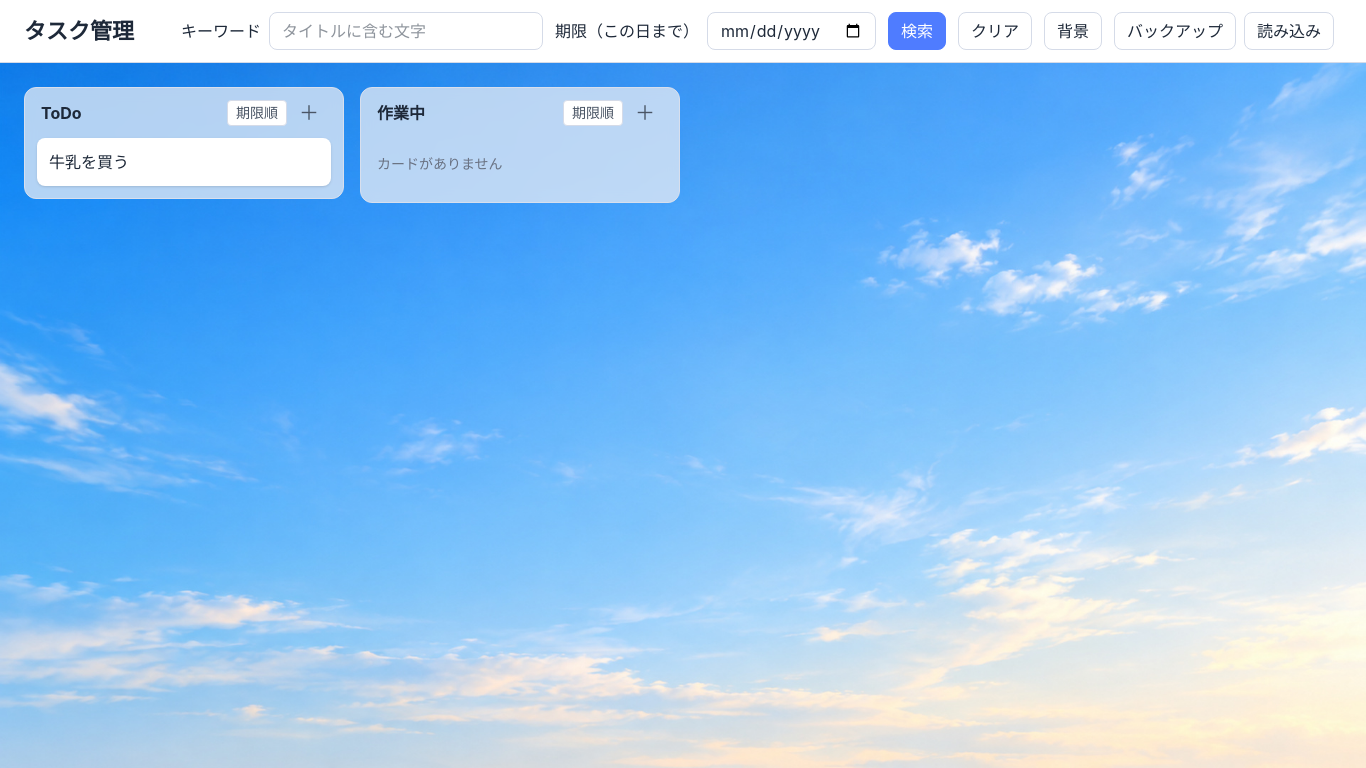
Test case: 保存に失敗したら、元の背景に戻って、エラーが出る
This screenshot has width=1366, height=768.
expect the element "ToDo" is shown: met, box [24,87,344,199]
Click the button "背景".
click(1073, 31)  # box [1044,12,1102,50]
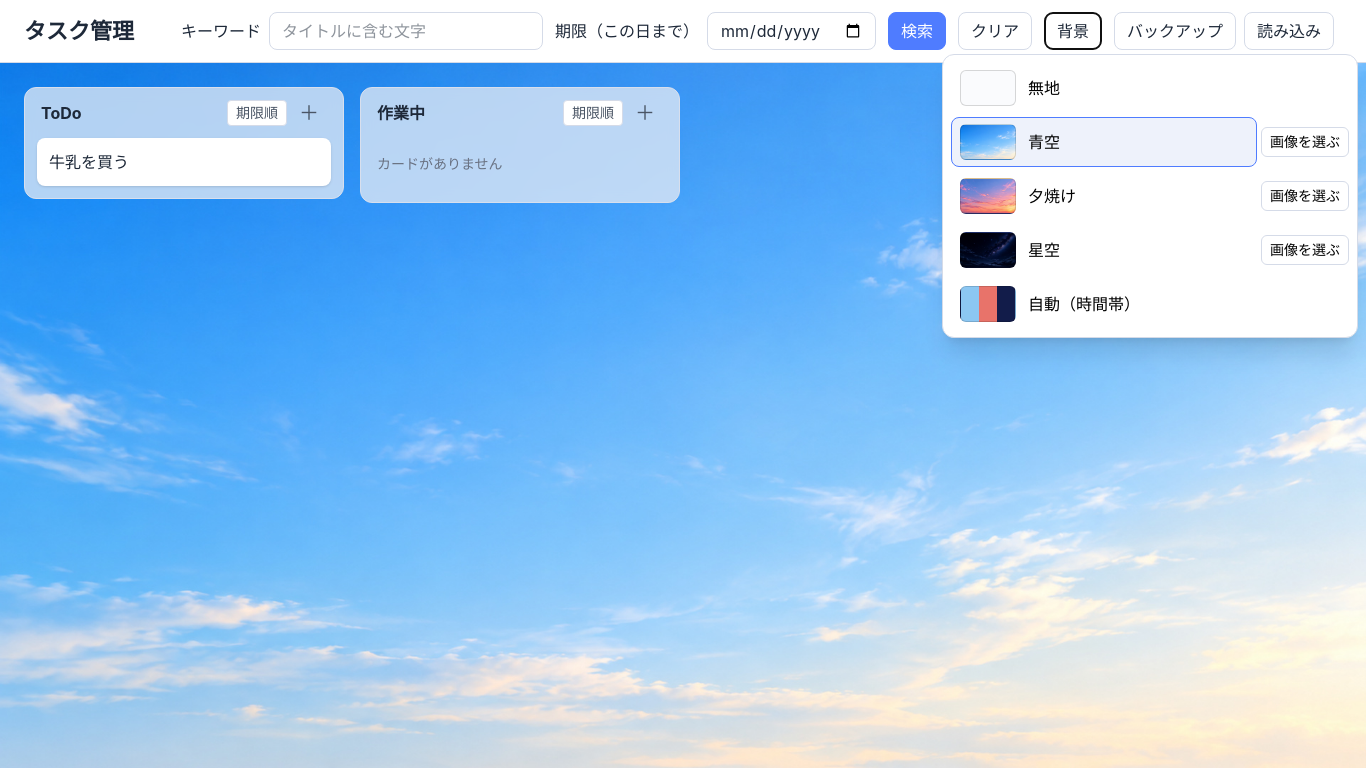
Click the radio button labelled "夕焼け".
click(988, 196)  # box [951,171,1257,221]
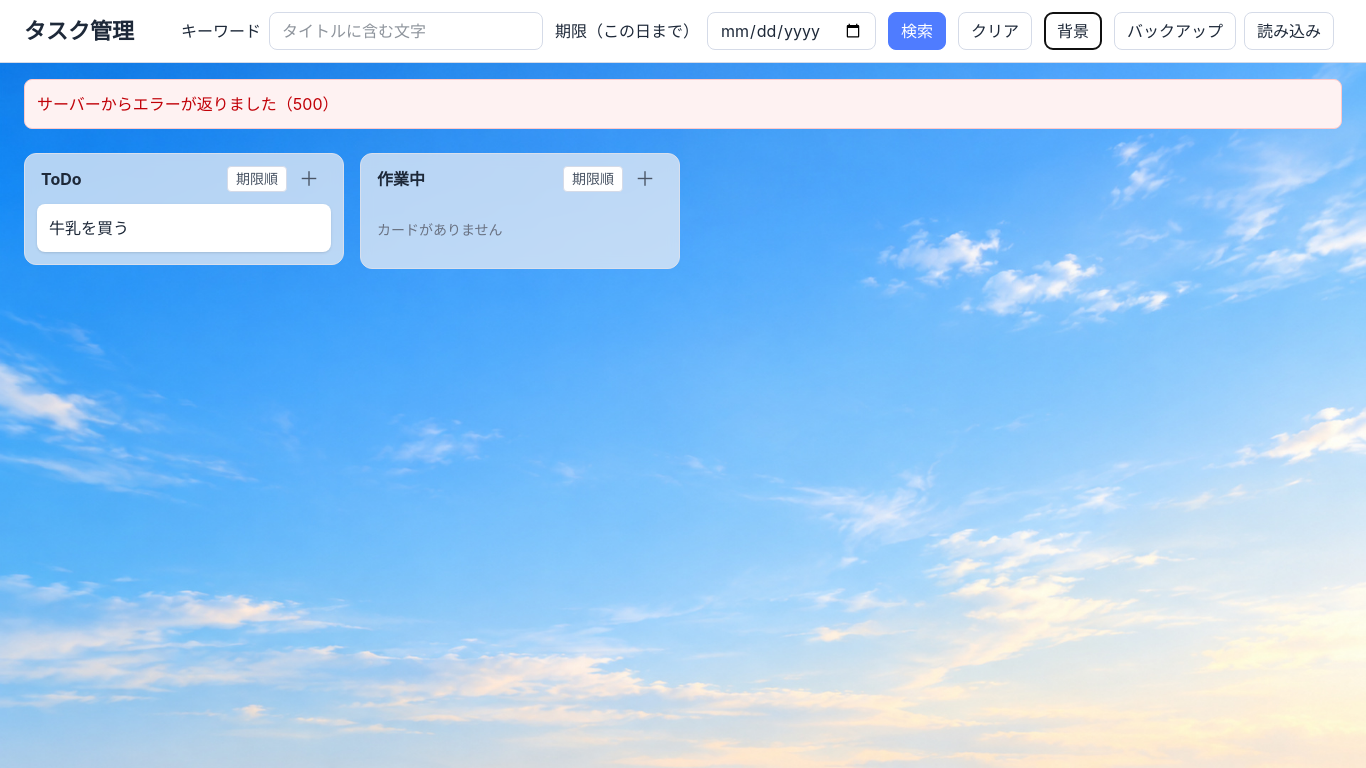
expect the message shows "サーバーからエラーが返りました": met, box [37,94,338,114]
